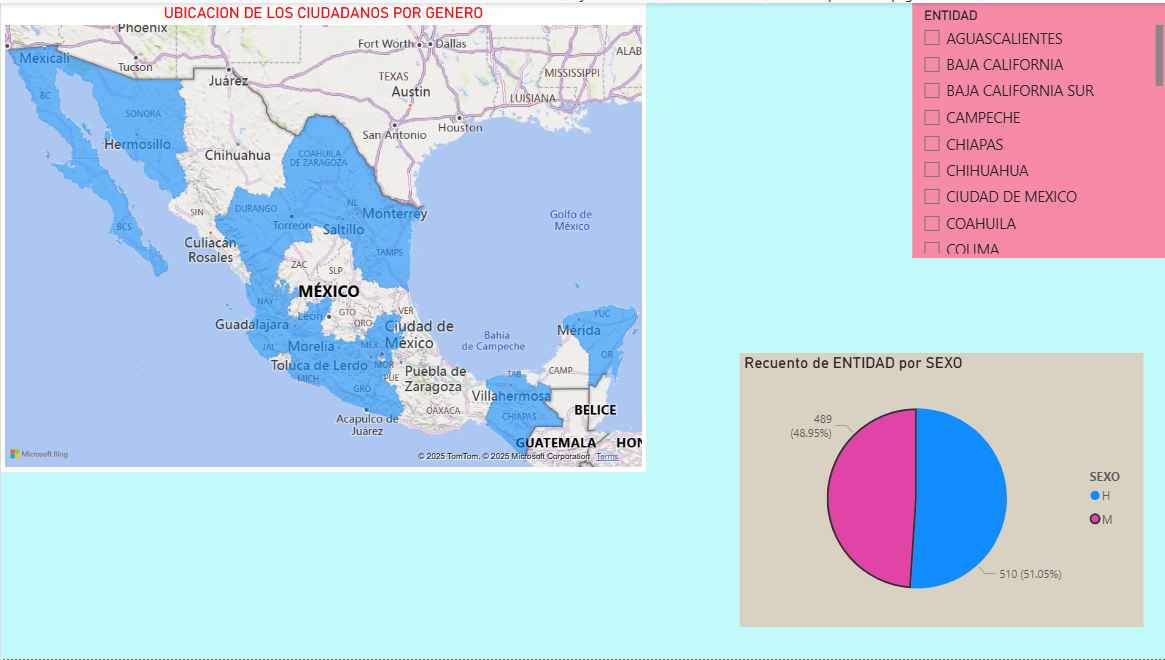

The page's visual inventory and layout, read from the dashboard file:
{"tool":"powerbi","page":{"name":"Porcentaje de generos","canvas":[1280,720],"ordinal":0},"visuals":[{"type":"pieChart","fields":{"Category":["Ejemplo.SEXO"],"Y":["CountNonNull(Ejemplo.ENTIDAD)"]},"box":[811,384.2,443.2,300.5],"z":0},{"type":"slicer","fields":{"Values":["Ejemplo.ENTIDAD"]},"box":[1000.3,0,279.9,279.9],"z":1},{"type":"filledMap","title":"UBICACION DE LOS CIUDADANOS POR GENERO","fields":{"Category":["Ejemplo.ENTIDAD"]},"box":[0,0,708.1,514.6],"z":2}]}

Visuals, with their boxes in screenshot pixels (x1, y1, x2, y2), scaled from the page's 1280x720 canvas onto the 1165x660 screenshot:
pieChart - Ejemplo.SEXO x CountNonNull(Ejemplo.ENTIDAD): BBox(738, 352, 1142, 628)
slicer - Ejemplo.ENTIDAD: BBox(910, 0, 1164, 257)
"UBICACION DE LOS CIUDADANOS POR GENERO" filledMap: BBox(0, 0, 644, 472)
